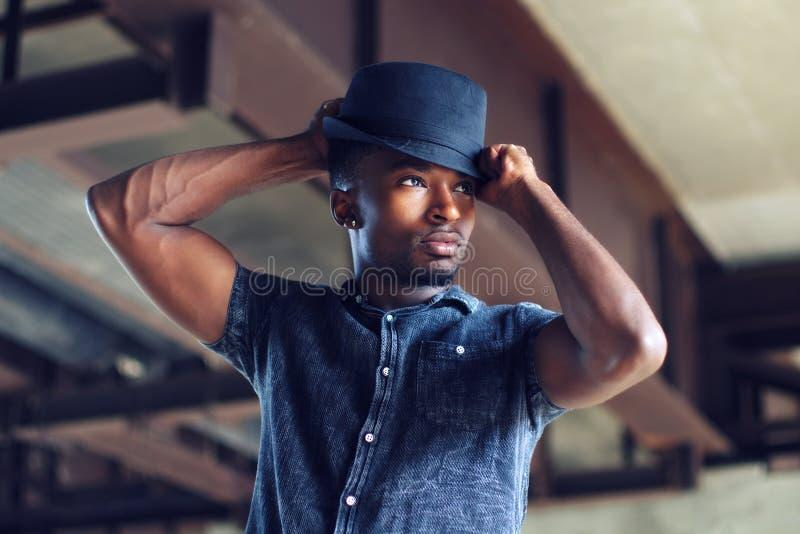cap: (311, 36, 497, 187)
